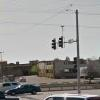Traffic light: (44, 20, 71, 60)
